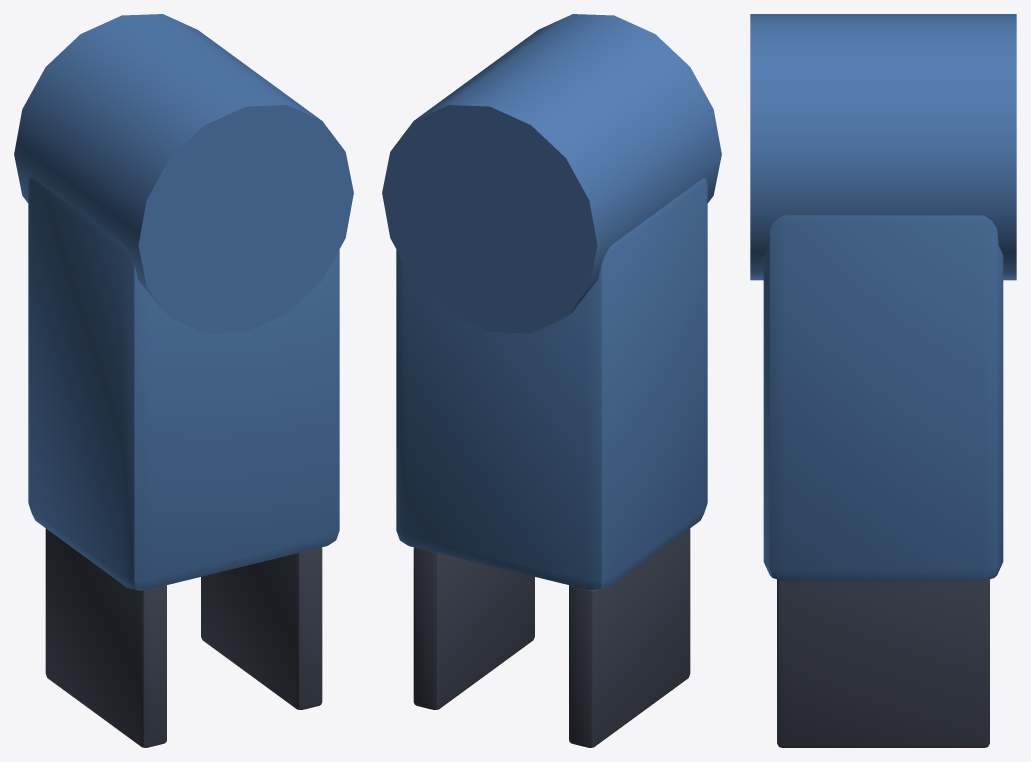
Rendered from caixa_correio.glb.
3 views of the same model, side by side, from view 1: azimuth 30°, elevation 25°; view 2: azimuth 150°, elevation 25°; view 3: azimuth 270°, elevation 25° (orthographic). The views are drawn at different scales.
Parts seen in each view (by area): view 1: Cube; view 2: Cube; view 3: Cube.
Part boxes in pixels (box(x1,y1,x2,y2)): Cube: box(14, 14, 353, 747); Cube: box(382, 14, 721, 747); Cube: box(750, 14, 1016, 747).
Bounding box in the file's own units: 0.5 × 1.4 × 0.5.
